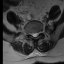CCS_stenosis: (34, 30, 36, 39)
LFS_normal: (38, 29, 40, 36)
LLS_normal: (36, 30, 38, 38)
RFS_stenosis: (29, 30, 32, 36)
RLS_normal: (32, 31, 34, 38)
